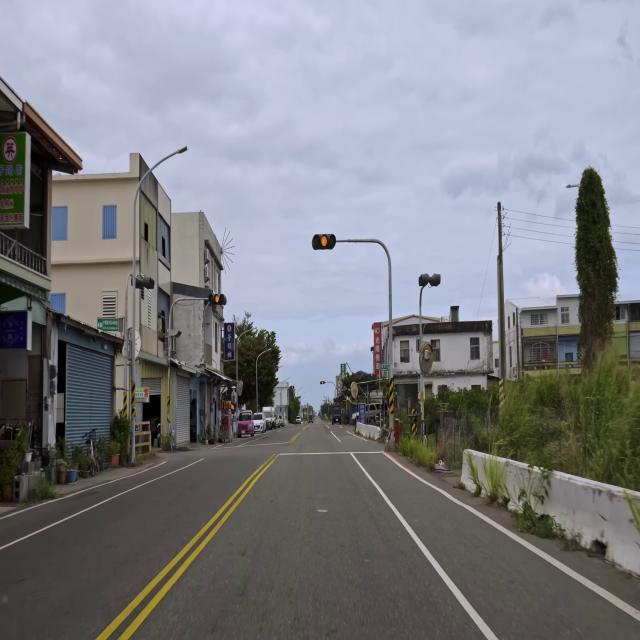yellow light: (312, 233, 336, 250), (208, 292, 226, 304)
